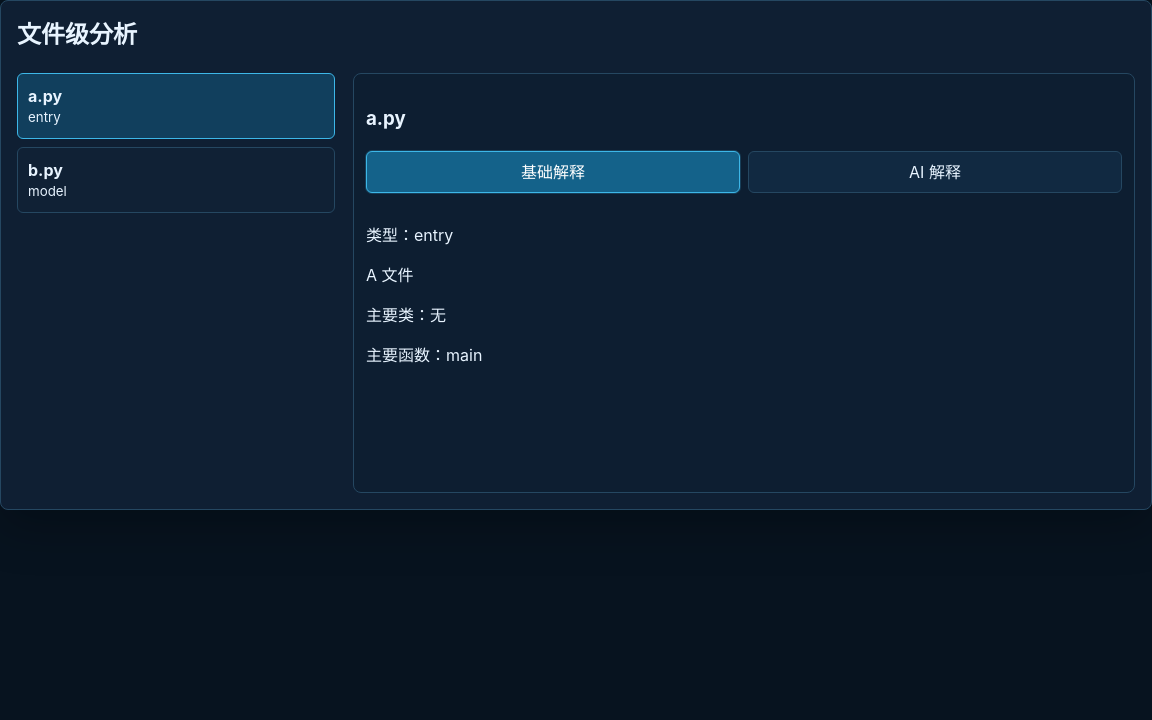
Test: file analysis shows one selected file and separates AI explanation
Expected: the text "A 文件" is shown, [366, 265, 414, 285]
Expected: the text "A AI 解释" is not shown
Click the button "AI 解释" at (935, 172), box [748, 151, 1122, 193]
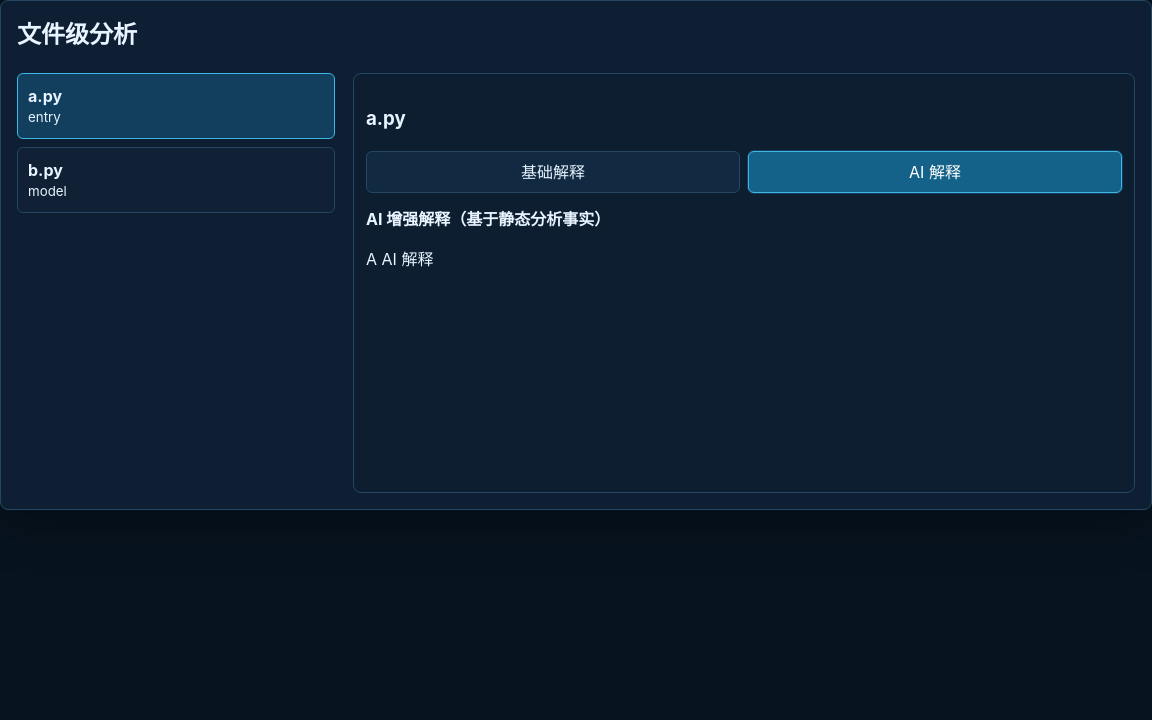
Expected: the text "A AI 解释" is shown, [366, 249, 433, 269]
Click the button "b.py model" at (45, 170), box [17, 147, 335, 213]
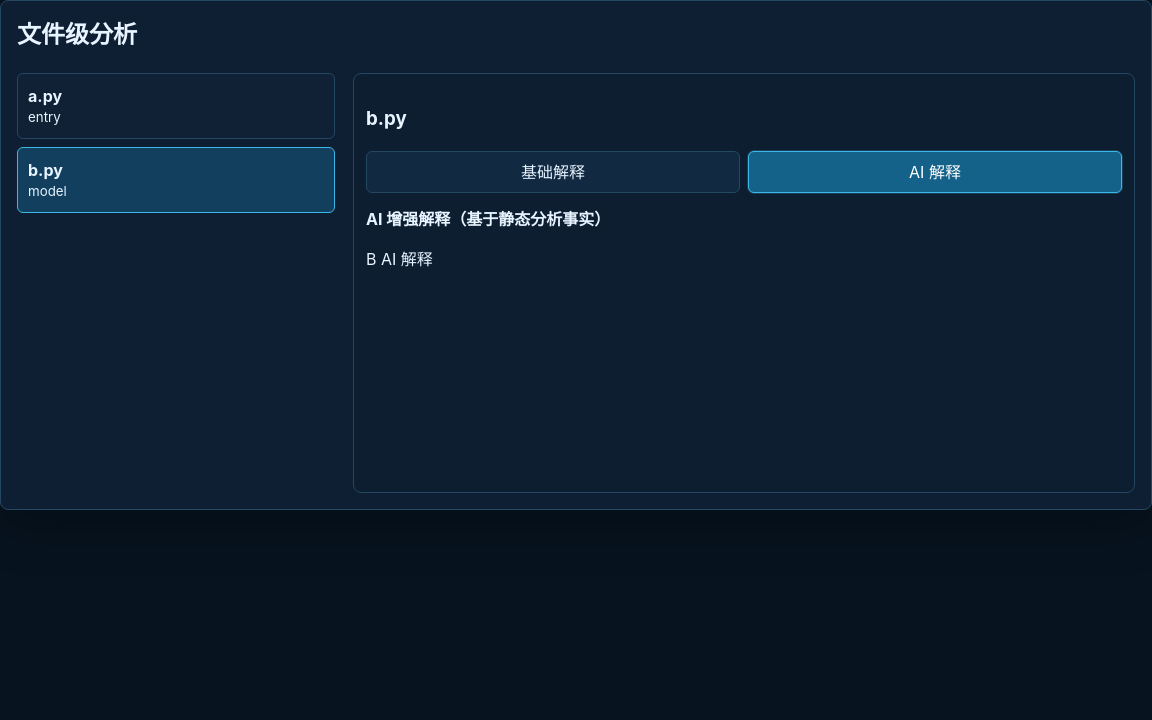
Expected: the text "B AI 解释" is shown, [366, 249, 433, 269]
